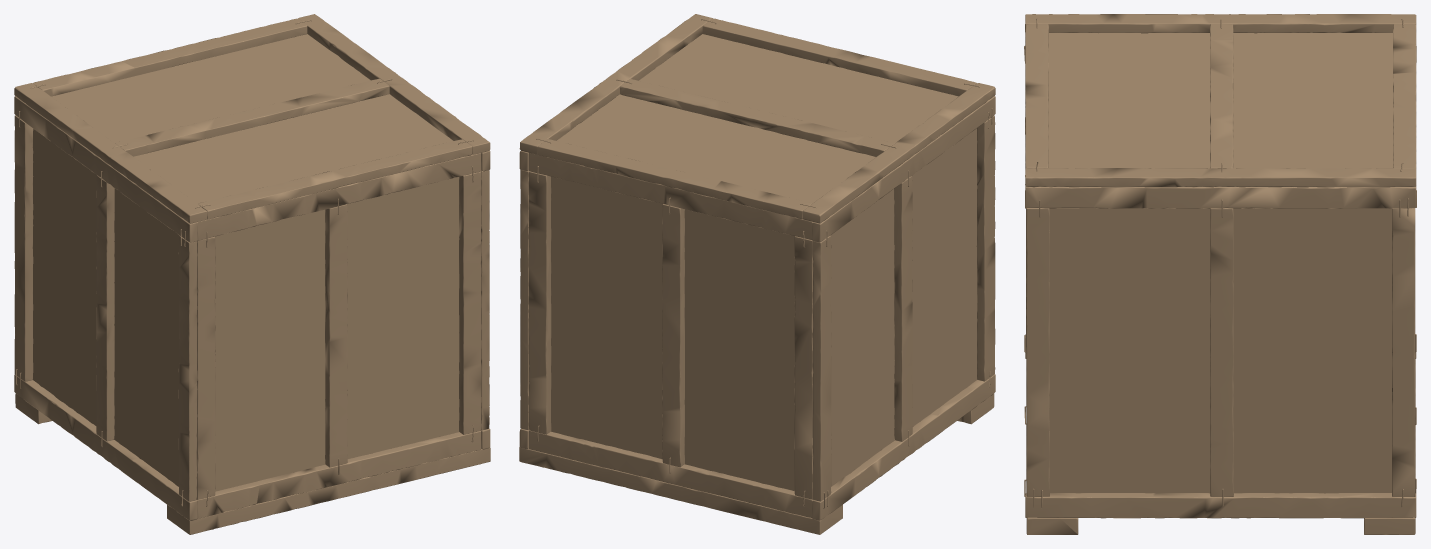
File: plywood_crate.glb
3 renders of one model, left to right at view 1: azimuth 30°, elevation 25°; view 2: azimuth 150°, elevation 25°; view 3: azimuth 270°, elevation 25°, orthographic. The views are drawn at different scales.
Visible parts, largest first — view 1: body; view 2: body; view 3: body.
Boxes of the visible parts, x1=… form: body: x1=14, y1=14, x2=490, y2=534; body: x1=519, y1=14, x2=995, y2=534; body: x1=1024, y1=14, x2=1416, y2=534.
Bounding box in the file's own units: 1 × 1.02 × 1.01.
